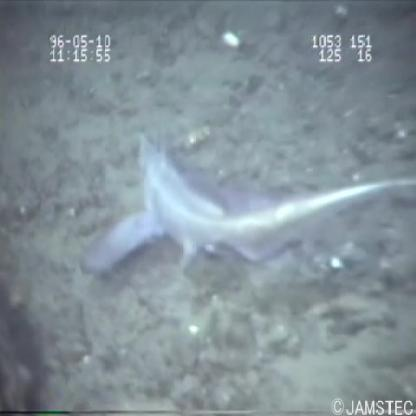Bio: (74, 128, 416, 288)
